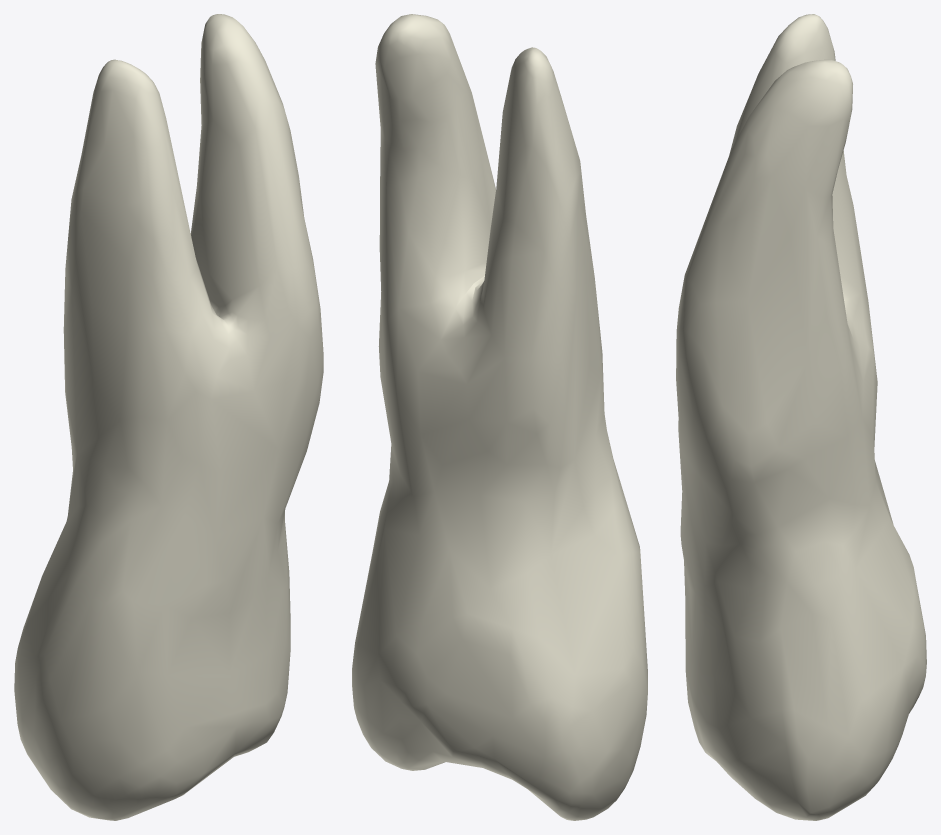
The model's file is Right second upper premolar tooth.fbx.
The picture shows the model from 3 angles, left to right: view 1: azimuth 30°, elevation 25°; view 2: azimuth 150°, elevation 25°; view 3: azimuth 270°, elevation 25°; orthographic projection. The views are drawn at different scales.
Visible parts, largest first — view 1: Right second upper premolar tooth; view 2: Right second upper premolar tooth; view 3: Right second upper premolar tooth.
Boxes of the visible parts, bbox=[...] form: Right second upper premolar tooth: bbox=[14, 14, 323, 820]; Right second upper premolar tooth: bbox=[352, 14, 647, 820]; Right second upper premolar tooth: bbox=[676, 14, 926, 820].
Bounding box in the file's own units: 1.24 × 3.46 × 1.01.
